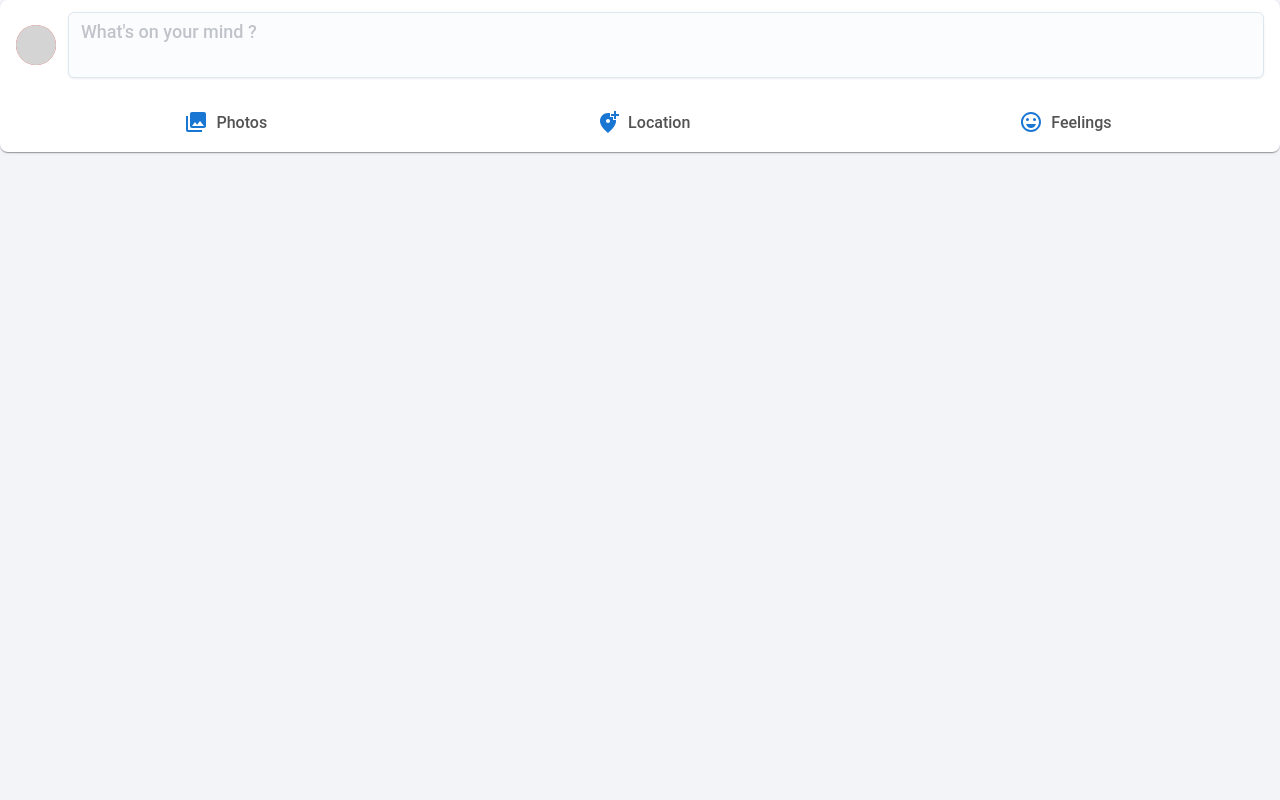
Test: CreatePost › should open CreatePostModal on textarea click
Click the text box with placeholder "What's on your mind ?": (672, 45) 81,18 -> 1263,72
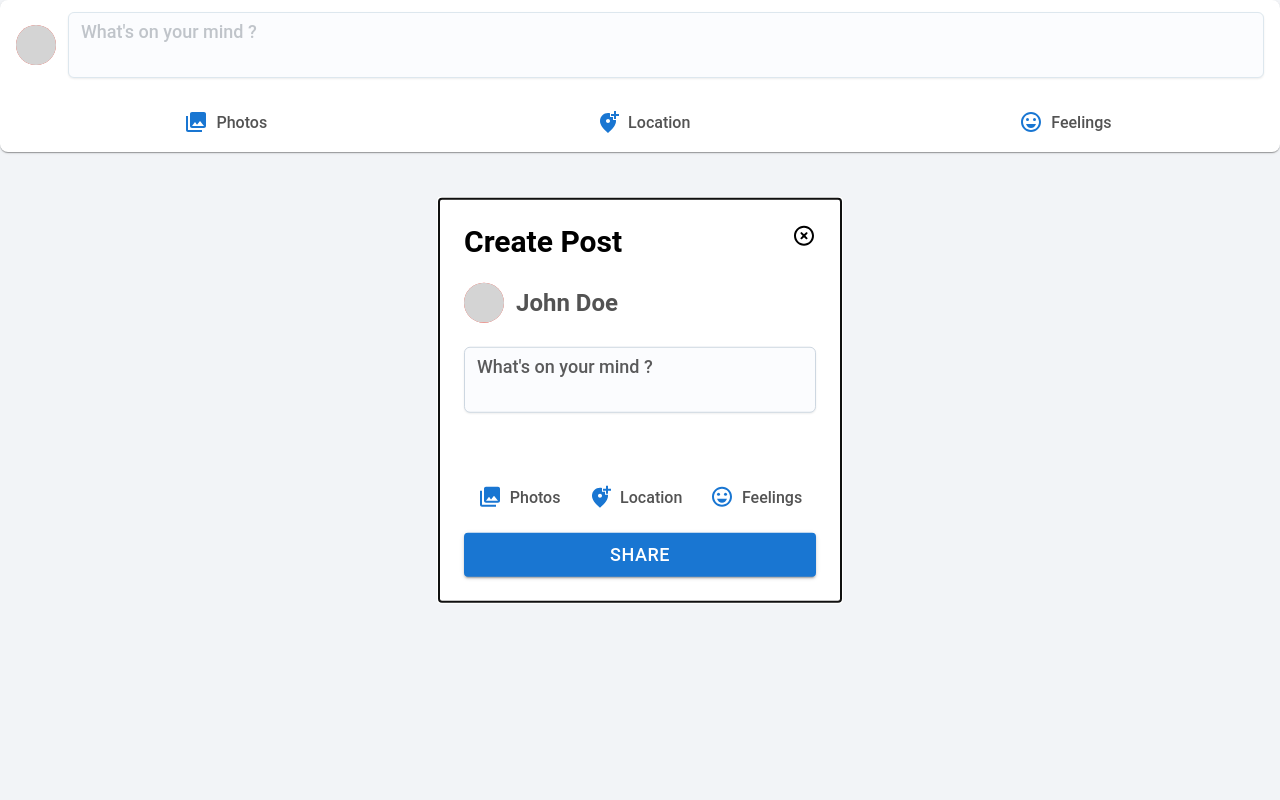
Result: the button "Share" is shown at 464,533 -> 816,576
